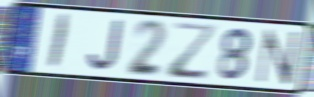2: (128, 19, 169, 78)
8: (217, 26, 252, 83)
I: (46, 12, 73, 71)
J: (86, 18, 125, 73)
N: (254, 27, 302, 86)
Z: (167, 21, 218, 82)
